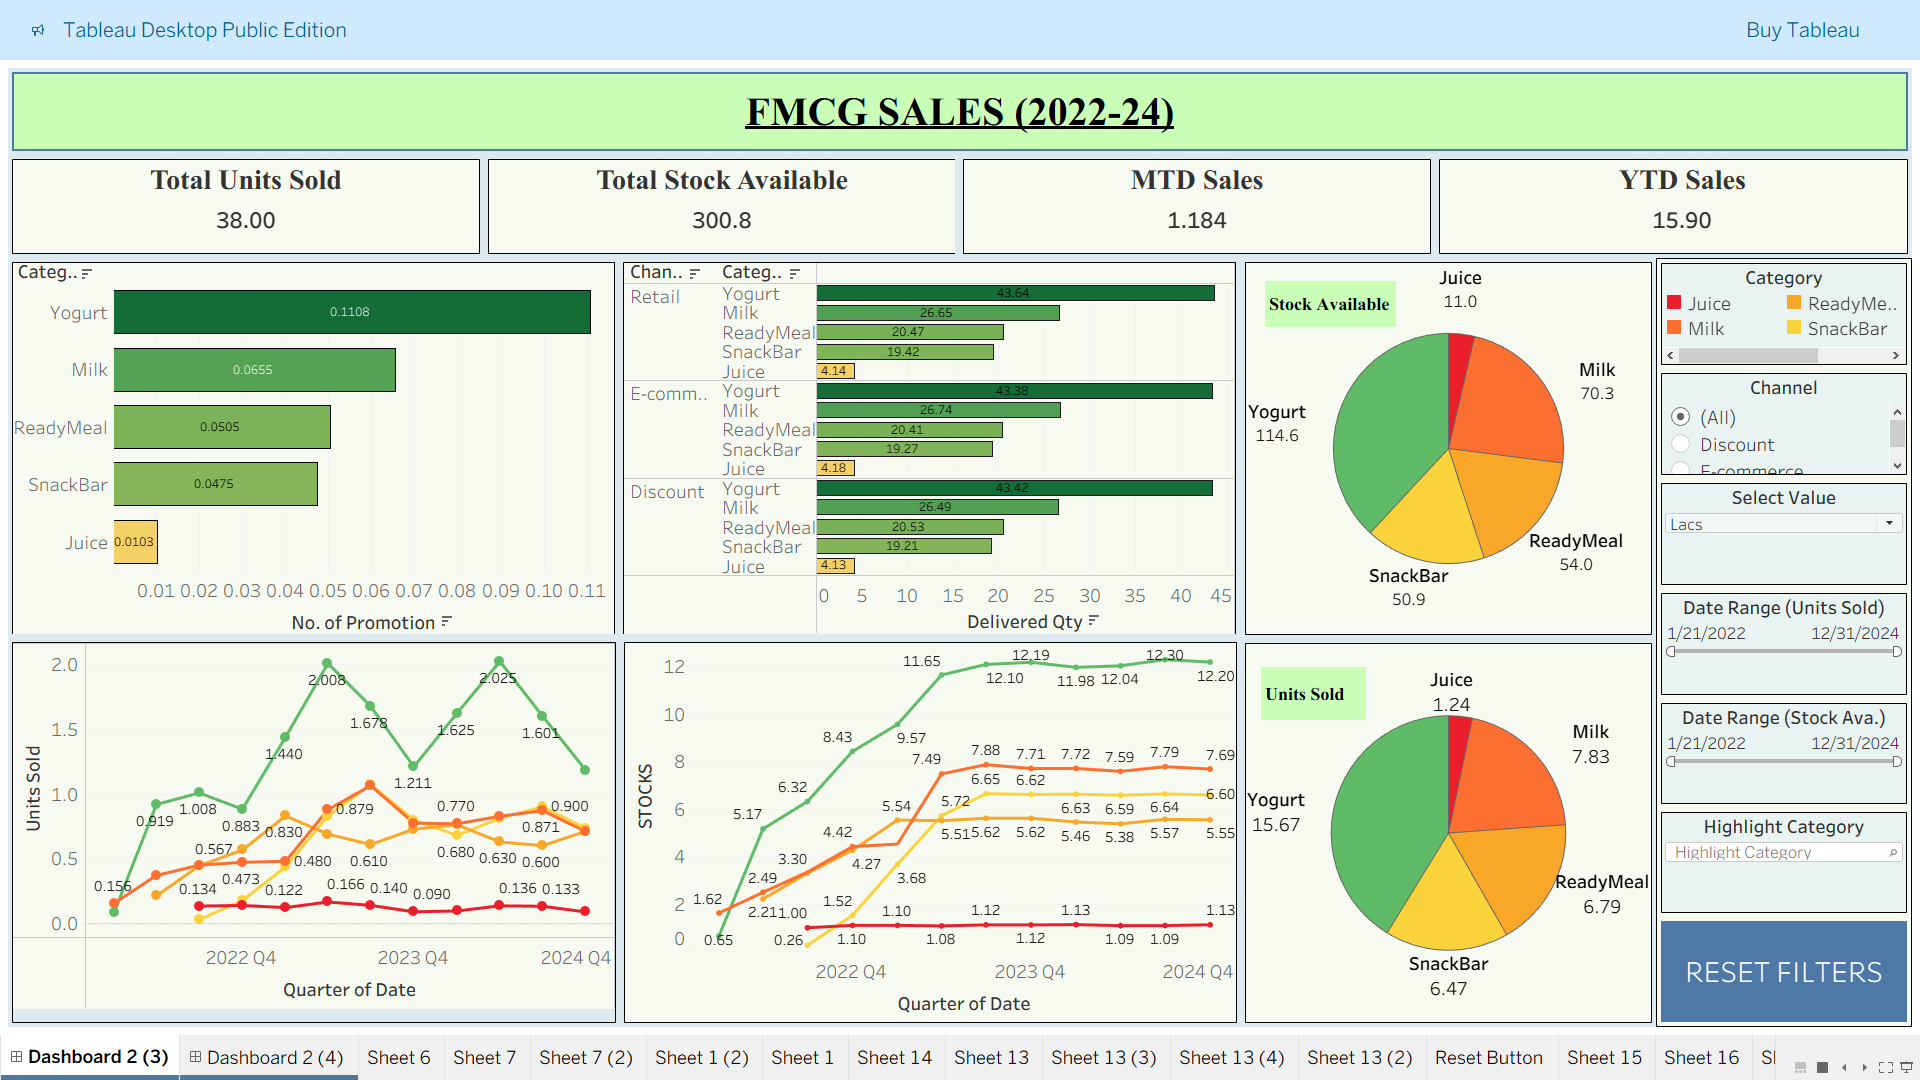

This screenshot's page, from the dashboard's own definition file:
{"tool":"tableau","page":{"name":"Dashboard 2 (3)","canvas":[1000,1000],"units":"permille","ordinal":0},"visuals":[{"type":"text","box":[5,10.6,990,88.4]},{"type":"worksheet","title":"Sheet 13","mark":"Automatic","box":[5,99,247.5,105.3]},{"type":"worksheet","title":"Sheet 13 (4)","mark":"Automatic","box":[252.5,99,247.5,105.3]},{"type":"worksheet","title":"Sheet 13 (3)","mark":"Automatic","box":[500,99,247.5,105.3]},{"type":"worksheet","title":"Sheet 13 (2)","mark":"Automatic","box":[747.5,99,247.5,105.3]},{"type":"worksheet","title":"Sheet 14","mark":"Bar","rows":["category"],"cols":["Calculation_1274237278203093002"],"box":[5,204.3,317.9,388.5]},{"type":"worksheet","title":"Sheet 6","mark":"Automatic","rows":["channel","category"],"cols":["Calculation_1274237278201847814"],"box":[322.9,204.3,323.1,388.5]},{"type":"worksheet","title":"Sheet 1 (2)","mark":"Pie","box":[645.9,204.3,215.9,389.4]},{"type":"legend","title":"Sheet 7","param":"[federated.0rrx5db106soxu15s4mtq0eiksd2].[none:category:nk]","box":[862.2,205.8,132.2,112.1]},{"type":"text","box":[658.6,226.9,68.5,47.5]},{"type":"filter","title":"Sheet 6","param":"[federated.0rrx5db106soxu15s4mtq0eiksd2].[none:channel:nk]","box":[862.2,317.9,132.2,112.1]},{"type":"parameter","param":"[Parameters].[Parameter 1]","box":[862.2,430.1,132.2,112.1]},{"type":"filter","title":"Sheet 7","param":"[federated.0rrx5db106soxu15s4mtq0eiksd2].[none:date:qk]","box":[862.2,542.2,132.2,112.1]},{"type":"worksheet","title":"Sheet 7","mark":"Circle","rows":["Calculation_1274237278202077192","Calculation_1274237278202077192"],"cols":["date"],"box":[5,592.8,318.1,396.6]},{"type":"worksheet","title":"Sheet 7 (2)","mark":"Automatic","rows":["Calculation_1274237278173560836","Calculation_1274237278173560836"],"cols":["date"],"box":[323.1,592.8,322.8,396.6]},{"type":"worksheet","title":"Sheet 1","mark":"Pie","box":[645.9,593.7,215.9,395.7]},{"type":"text","box":[656.9,622.7,54.7,54.1]},{"type":"filter","title":"Sheet 7 (2)","param":"[federated.0rrx5db106soxu15s4mtq0eiksd2].[none:date:qk]","box":[862.2,654.4,132.2,112.1]},{"type":"highlighter","title":"Sheet 1 (2)","param":"[federated.0rrx5db106soxu15s4mtq0eiksd2].[none:category:nk]","box":[862.2,766.5,132.2,110.8]},{"type":"worksheet","title":"Reset Button","mark":"Square","box":[862.2,877.3,132.2,110.8]}]}

Visuals, with their boxes on the dashboard's canvas, which has no fixed pixel size, in thousandths of its width and height (x1, y1, x2, y2). These are canvas units, not pixel positions in the 1920x1080 screenshot, which may show the page scaled, cropped or inside an application window:
text: box(5, 11, 995, 99)
"Sheet 13" worksheet: box(5, 99, 252, 204)
"Sheet 13 (4)" worksheet: box(252, 99, 500, 204)
"Sheet 13 (3)" worksheet: box(500, 99, 748, 204)
"Sheet 13 (2)" worksheet: box(748, 99, 995, 204)
"Sheet 14" worksheet (Bar marks): box(5, 204, 323, 593)
"Sheet 6" worksheet: box(323, 204, 646, 593)
"Sheet 1 (2)" worksheet (Pie marks): box(646, 204, 862, 594)
"Sheet 7" legend: box(862, 206, 994, 318)
text: box(659, 227, 727, 274)
"Sheet 6" filter: box(862, 318, 994, 430)
parameter: box(862, 430, 994, 542)
"Sheet 7" filter: box(862, 542, 994, 654)
"Sheet 7" worksheet (Circle marks): box(5, 593, 323, 989)
"Sheet 7 (2)" worksheet: box(323, 593, 646, 989)
"Sheet 1" worksheet (Pie marks): box(646, 594, 862, 989)
text: box(657, 623, 712, 677)
"Sheet 7 (2)" filter: box(862, 654, 994, 766)
"Sheet 1 (2)" highlighter: box(862, 766, 994, 877)
"Reset Button" worksheet (Square marks): box(862, 877, 994, 988)
